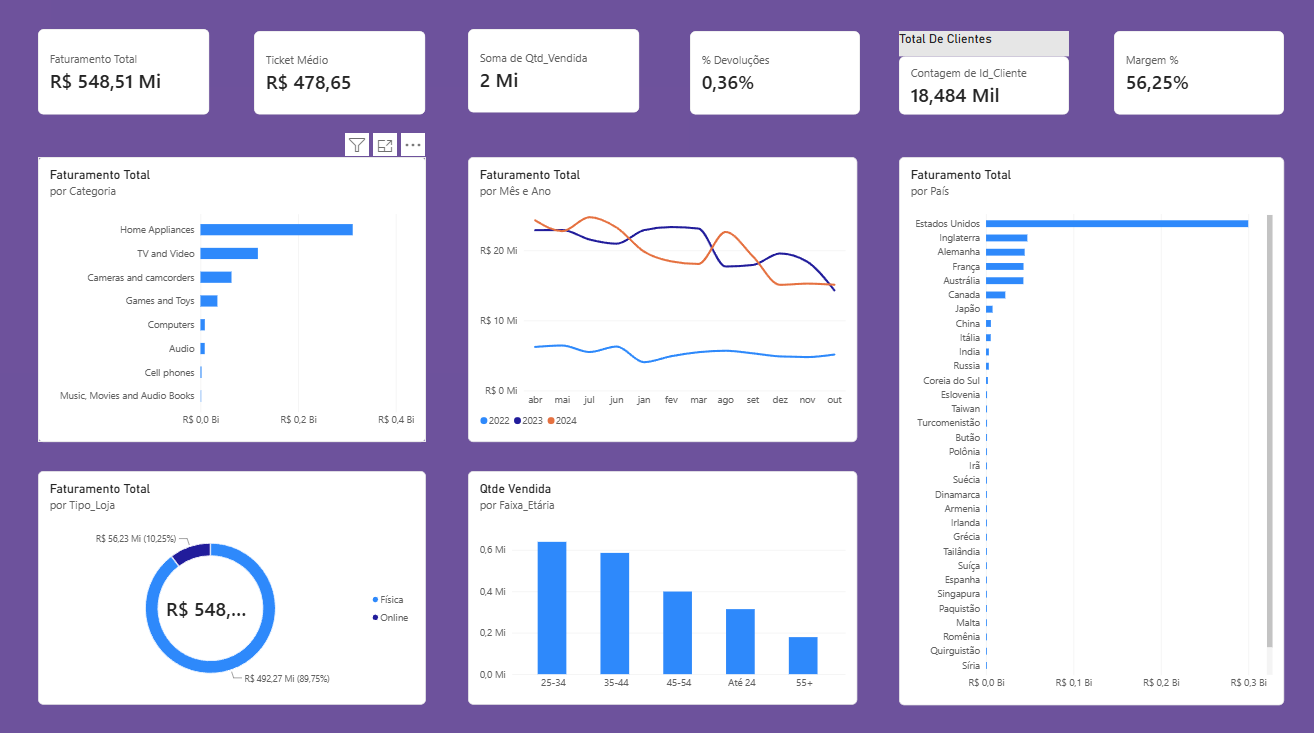

The page's visual inventory and layout, read from the dashboard file:
{"tool":"powerbi","page":{"name":"Página 1","canvas":[1920,1080],"ordinal":0},"visuals":[{"type":"cardVisual","fields":{"Data":["Vendas.Faturamento Total"]},"box":[58.4,48.1,250.9,125.5],"z":0},{"type":"cardVisual","fields":{"Data":["Sum(Vendas.Qtd_Vendida)"]},"box":[685.7,48.1,250.9,122.6],"z":1000},{"type":"cardVisual","fields":{"Data":["Vendas.Ticket Médio"]},"box":[1314.5,51.1,248,122.6],"z":2000},{"type":"cardVisual","fields":{"Data":["Vendas.Ticket Médio"]},"box":[373.5,51.1,250.9,122.6],"z":3000},{"type":"cardVisual","fields":{"Data":["Vendas.% Devoluções"]},"box":[1009.6,51.1,248,122.6],"z":4000},{"type":"cardVisual","fields":{"Data":["Vendas.Margem %"]},"box":[1628.2,51.1,248,122.6],"z":5000},{"type":"lineChart","fields":{"Category":["Calendario.Mês"],"Series":["Calendario.Ano"],"Y":["Vendas.Faturamento Total"]},"box":[685.7,234.9,567.5,415.8],"z":6000},{"type":"barChart","fields":{"Category":["Produto.Categoria"],"Y":["Vendas.Faturamento Total"]},"box":[58.4,234.9,566.1,415.8],"z":7000},{"type":"donutChart","fields":{"Category":["Lojas.Tipo_Loja"],"Y":["Vendas.Faturamento Total"]},"box":[58.4,693,566.1,341.4],"z":8000},{"type":"barChart","fields":{"Category":["Lojas.País"],"Y":["Vendas.Faturamento Total"]},"box":[1314.5,234.9,561.7,799.5],"z":9000},{"type":"columnChart","fields":{"Category":["Clientes.Faixa_Etária"],"Y":["Vendas.Qtde Vendida"]},"box":[685.7,693,567.5,341.4],"z":10000}]}

Visuals, with their boxes in screenshot pixels (x1, y1, x2, y2), scaled from the page's 1920x1080 canvas onto the 1314x733 screenshot:
cardVisual - Vendas.Faturamento Total: (x1=40, y1=33, x2=212, y2=118)
cardVisual - Sum(Vendas.Qtd_Vendida): (x1=469, y1=33, x2=641, y2=116)
cardVisual - Vendas.Ticket Médio: (x1=900, y1=35, x2=1069, y2=118)
cardVisual - Vendas.Ticket Médio: (x1=256, y1=35, x2=427, y2=118)
cardVisual - Vendas.% Devoluções: (x1=691, y1=35, x2=861, y2=118)
cardVisual - Vendas.Margem %: (x1=1114, y1=35, x2=1284, y2=118)
lineChart - Calendario.Mês x Calendario.Ano: (x1=469, y1=159, x2=858, y2=442)
barChart - Produto.Categoria x Vendas.Faturamento Total: (x1=40, y1=159, x2=427, y2=442)
donutChart - Lojas.Tipo_Loja x Vendas.Faturamento Total: (x1=40, y1=470, x2=427, y2=702)
barChart - Lojas.País x Vendas.Faturamento Total: (x1=900, y1=159, x2=1284, y2=702)
columnChart - Clientes.Faixa_Etária x Vendas.Qtde Vendida: (x1=469, y1=470, x2=858, y2=702)
